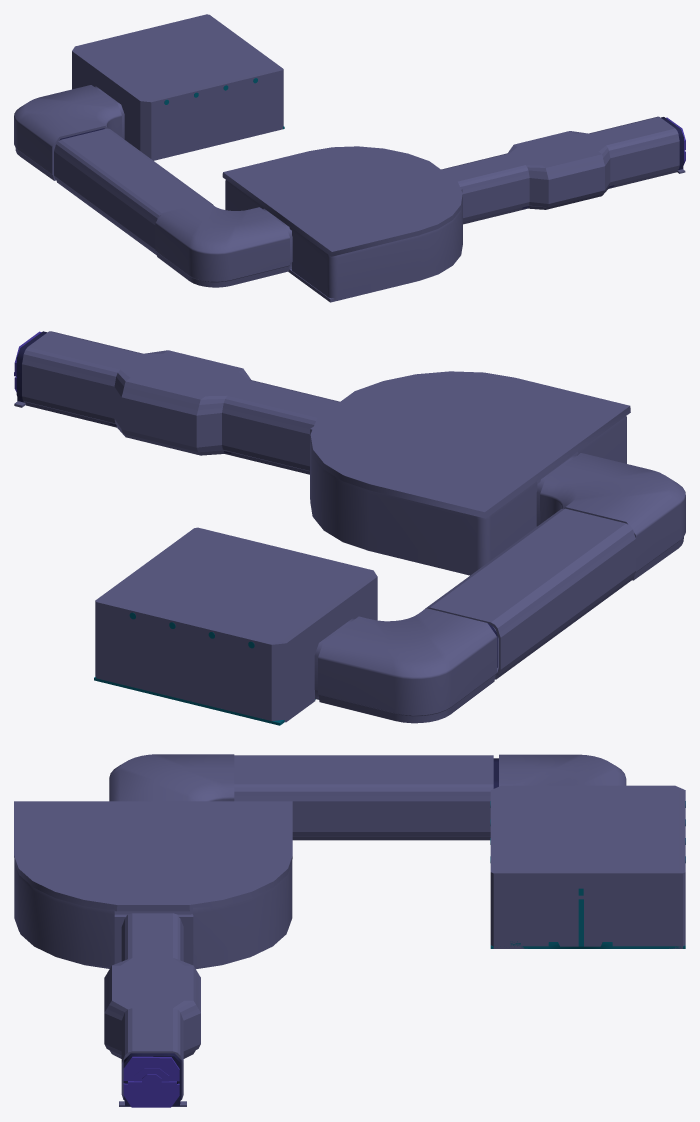
Rendered from Environment_w_colormap.fbx.
3 renders of one model, top to bottom at view 1: azimuth 30°, elevation 25°; view 2: azimuth 150°, elevation 25°; view 3: azimuth 270°, elevation 25°, orthographic. The views are drawn at different scales.
Parts seen in each view (by area): view 1: polySurface321; view 2: polySurface321; view 3: polySurface321.
Part boxes in pixels (left/top/right/bottom): polySurface321: left=14, top=14, right=685, bottom=302; polySurface321: left=14, top=331, right=685, bottom=725; polySurface321: left=14, top=754, right=685, bottom=1107.
Size of the model in its own units: 4270 by 521 by 3978.
